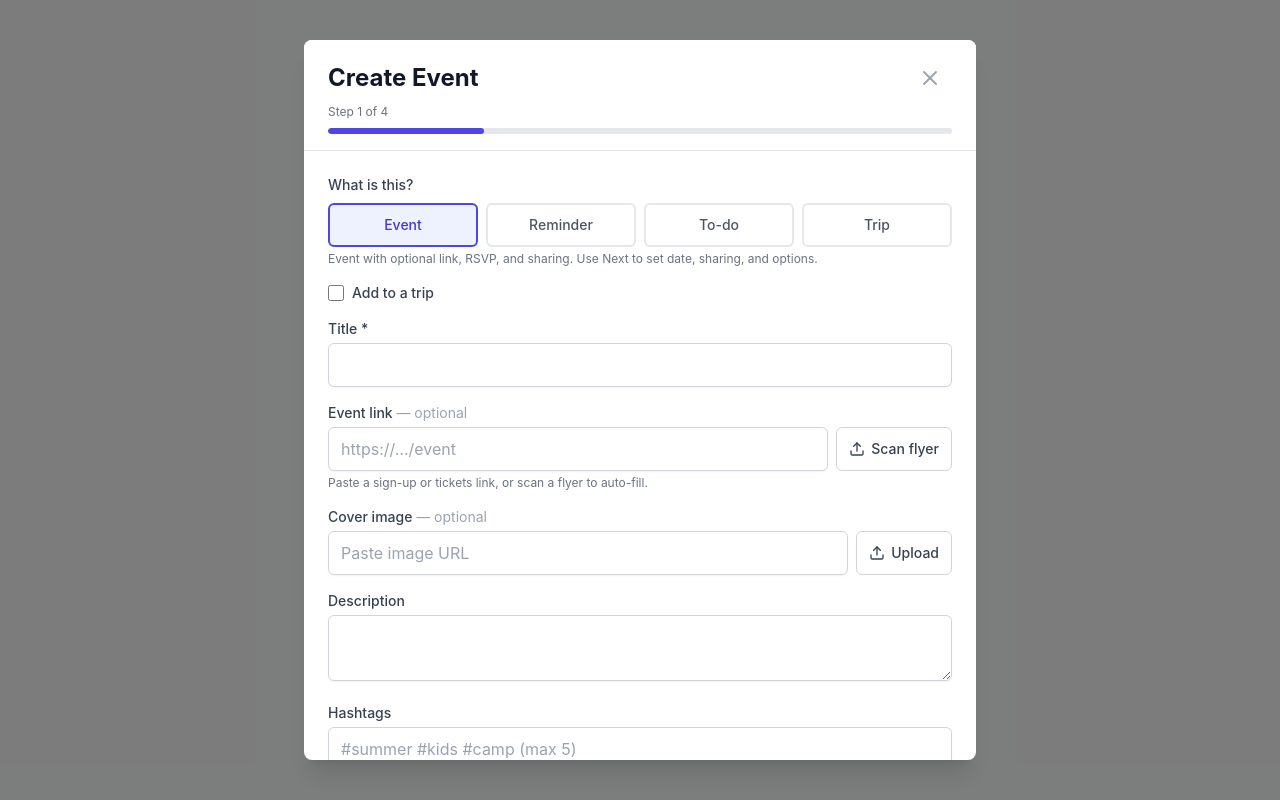
Test: EventForm – smart defaults & validation › pre-seeds a default start (top-of-hour) and end on create (event)
Type "Picnic" into the field labelled "Title *". click: (640, 365)
box: x1=328 y1=343 x2=952 y2=387
(page scrolled)
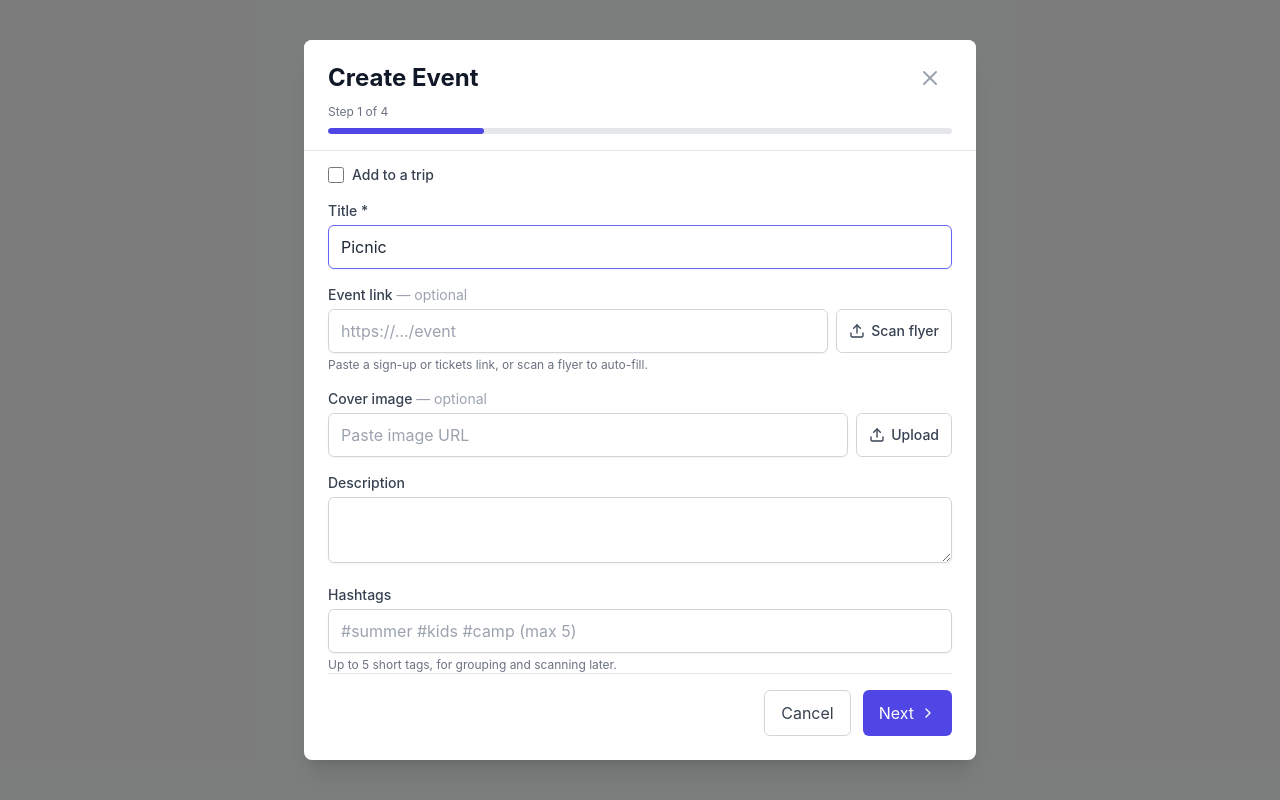
Click the button "Next". click: (907, 713)
box: x1=863 y1=690 x2=952 y2=736
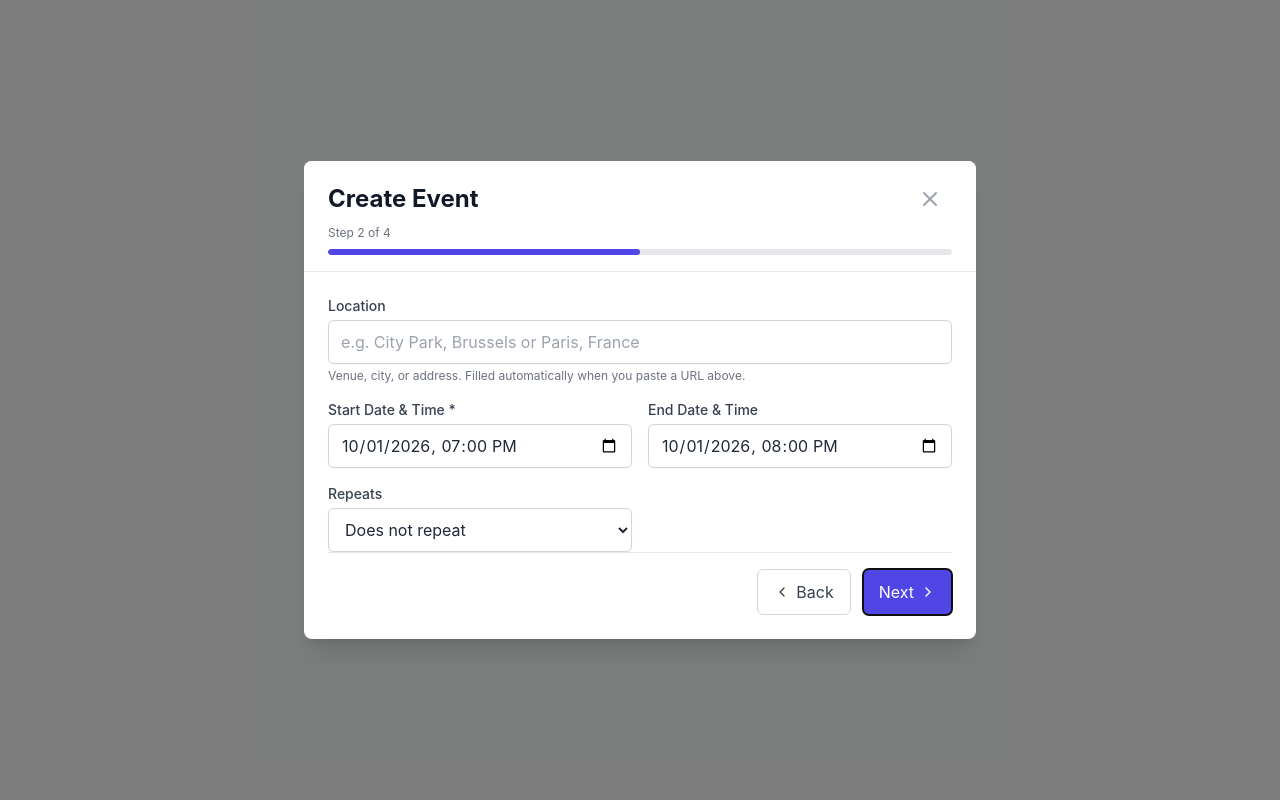
Check: the field labelled "Start Date & Time *" is not empty, box x1=328 y1=424 x2=632 y2=468
